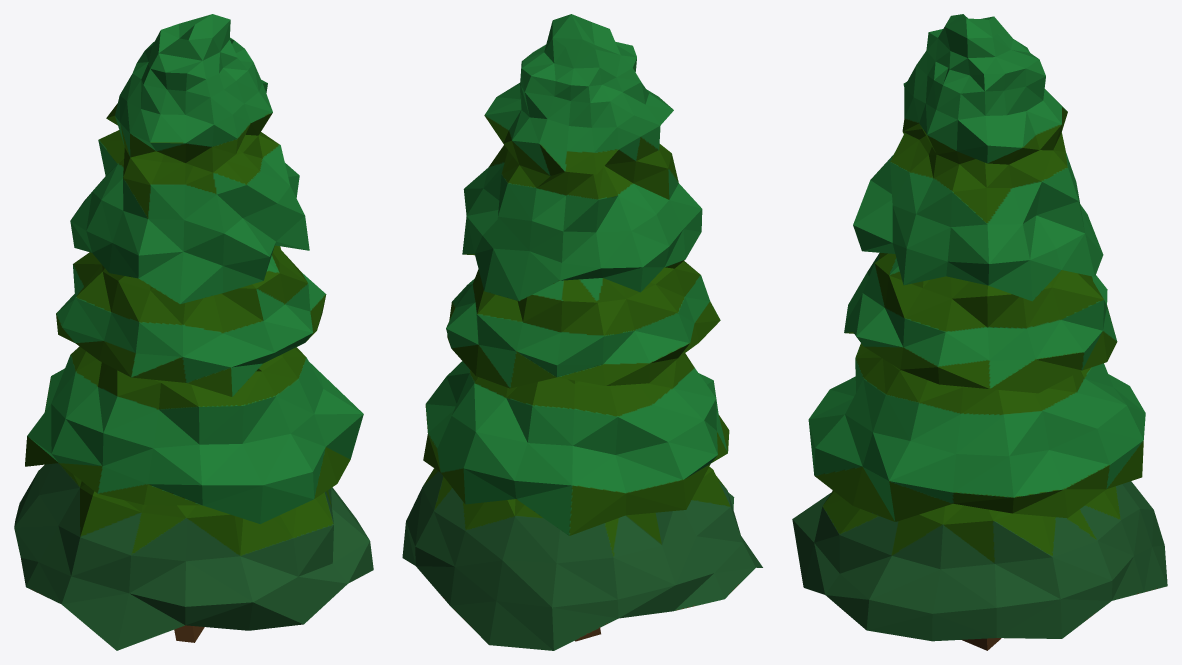
File: tree2.glb
The picture shows the model from 3 angles, left to right: view 1: azimuth 30°, elevation 25°; view 2: azimuth 150°, elevation 25°; view 3: azimuth 270°, elevation 25°; orthographic projection. The views are drawn at different scales.
Visible parts, largest first — view 1: _1_tree__1_tree_0; view 2: _1_tree__1_tree_0; view 3: _1_tree__1_tree_0.
Part boxes in pixels (x1,y1,x2,y2): _1_tree__1_tree_0: [14, 14, 373, 650]; _1_tree__1_tree_0: [402, 14, 762, 650]; _1_tree__1_tree_0: [792, 14, 1167, 650].
Bounding box in the file's own units: 0.7483 × 1.45 × 0.7799.
1 material, 1 textured.
